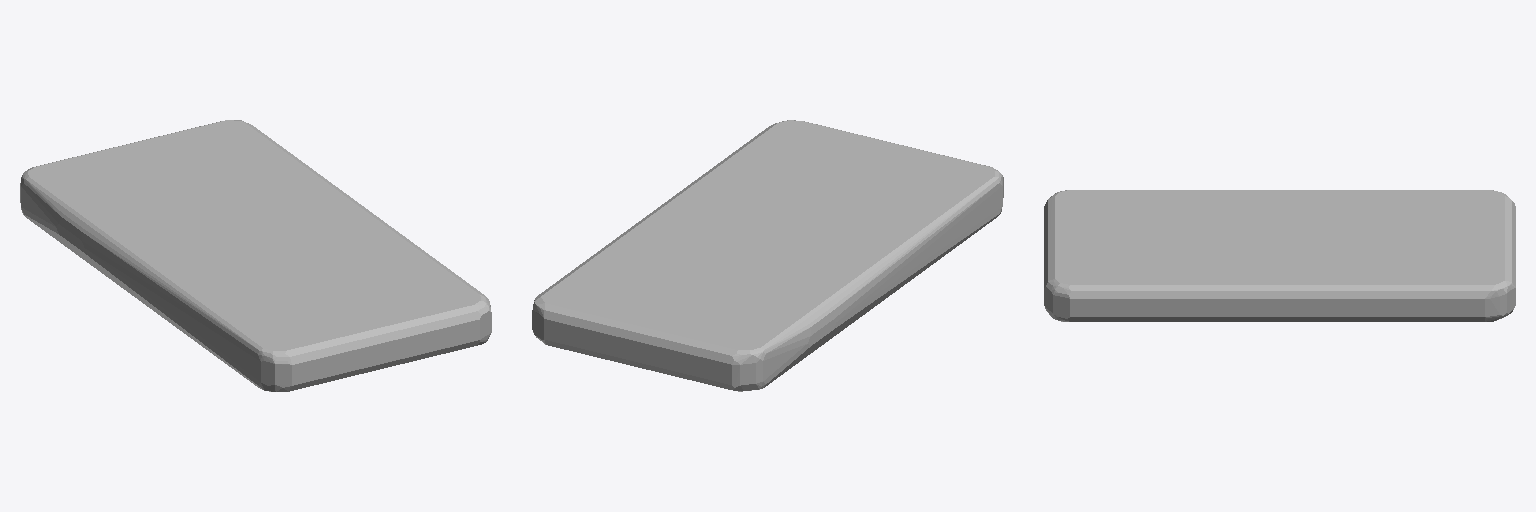
URDF robot description (root):
<robot name="root">
  <link name="link_coacd_convex_piece_0">
    <inertial>
      <origin xyz="0 0 0" rpy="0 0 0"/>
      <inertia ixx="5.80E-02" ixy="9.67E-05" ixz="4.21E-06" iyy="1.57E-02" iyz="-3.98E-06" izz="7.28E-02"/>
    </inertial>
    <visual>
      <origin xyz="0 0 0" rpy="0 0 0"/>
      <geometry>
        <mesh filename="coacd_convex_piece_0.obj" scale="1.0000E+00 1.0000E+00 1.0000E+00"/>
      </geometry>
      <material name="">
        <color rgba="7.50E-01 7.50E-01 7.50E-01 1"/>
      </material>
    </visual>
    <collision>
      <origin xyz="0 0 0" rpy="0 0 0"/>
      <geometry>
        <mesh filename="coacd_convex_piece_0.obj" scale="1.0000E+00 1.0000E+00 1.0000E+00"/>
      </geometry>
    </collision>
  </link>
</robot>

--- Facts derived from the render (not from the file) ---
The picture shows the robot from 3 angles, left to right: view 1: azimuth 30°, elevation 25°; view 2: azimuth 150°, elevation 25°; view 3: azimuth 270°, elevation 25°; orthographic projection.
Robot: root — 1 links, 0 joints (none); root link link_coacd_convex_piece_0; default pose: all joints at 0.
Links seen in each view (by area): view 1: link_coacd_convex_piece_0; view 2: link_coacd_convex_piece_0; view 3: link_coacd_convex_piece_0.
Link boxes in pixels (box(x1,y1,x2,y2)): link_coacd_convex_piece_0: box(20, 120, 491, 391); link_coacd_convex_piece_0: box(532, 120, 1003, 391); link_coacd_convex_piece_0: box(1044, 190, 1515, 321).
Bounding box of the posed robot: 0.9475 × 1.82 × 0.1579 m (x, y, z).
Meshes: 1 distinct files referenced, 1 mesh visuals loaded (1 OBJ).